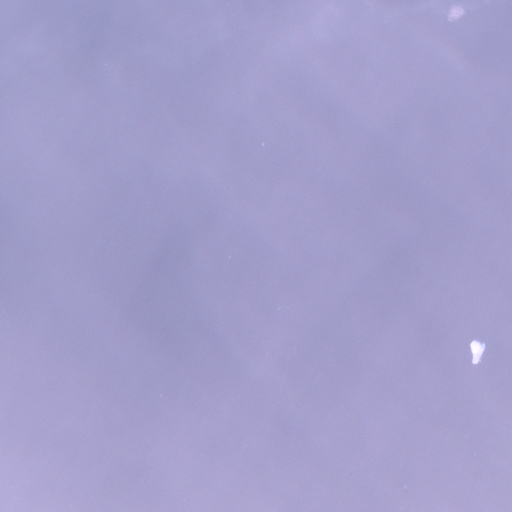Iceberg: (470, 340, 485, 364), (262, 143, 263, 144)
